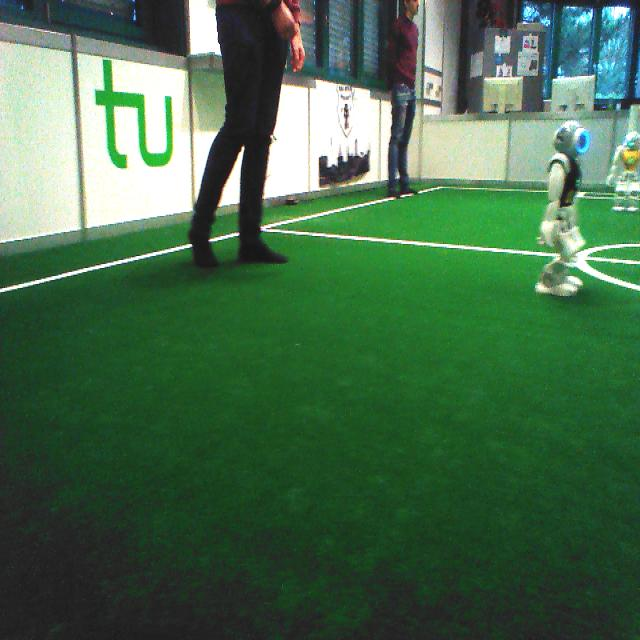goalpost: (627, 107, 637, 132)
